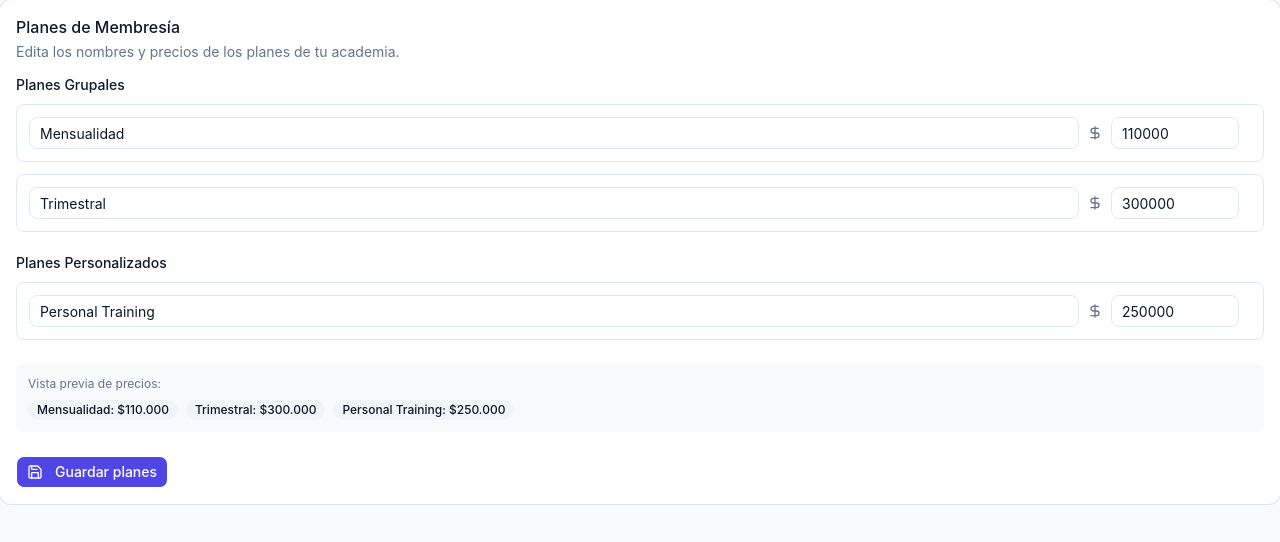
it: PlanEditor — nombre › muestra error y bloquea el guardado con nombre vacío
The width and height of the screenshot is (1280, 542).
Clear the field named "nombre del plan plan-mensual" at {"x": 554, "y": 133}, box [29,117,1079,149]
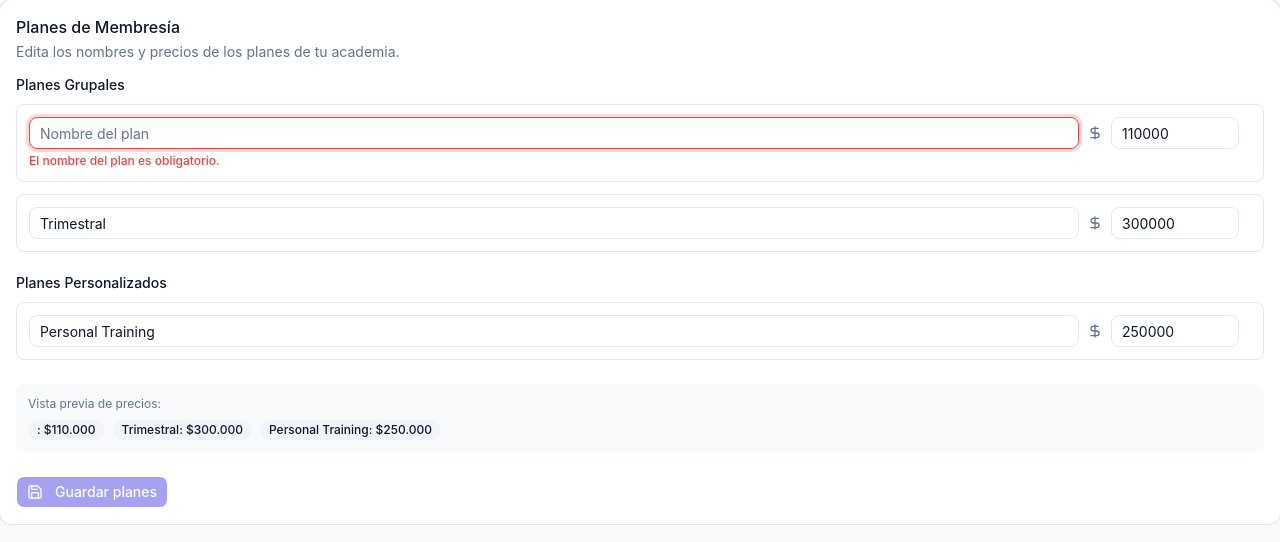
Result: the text "El nombre del plan es obligatorio." is shown at [29,153,220,168]
Result: the button "Guardar planes" is disabled at [16,476,168,508]
